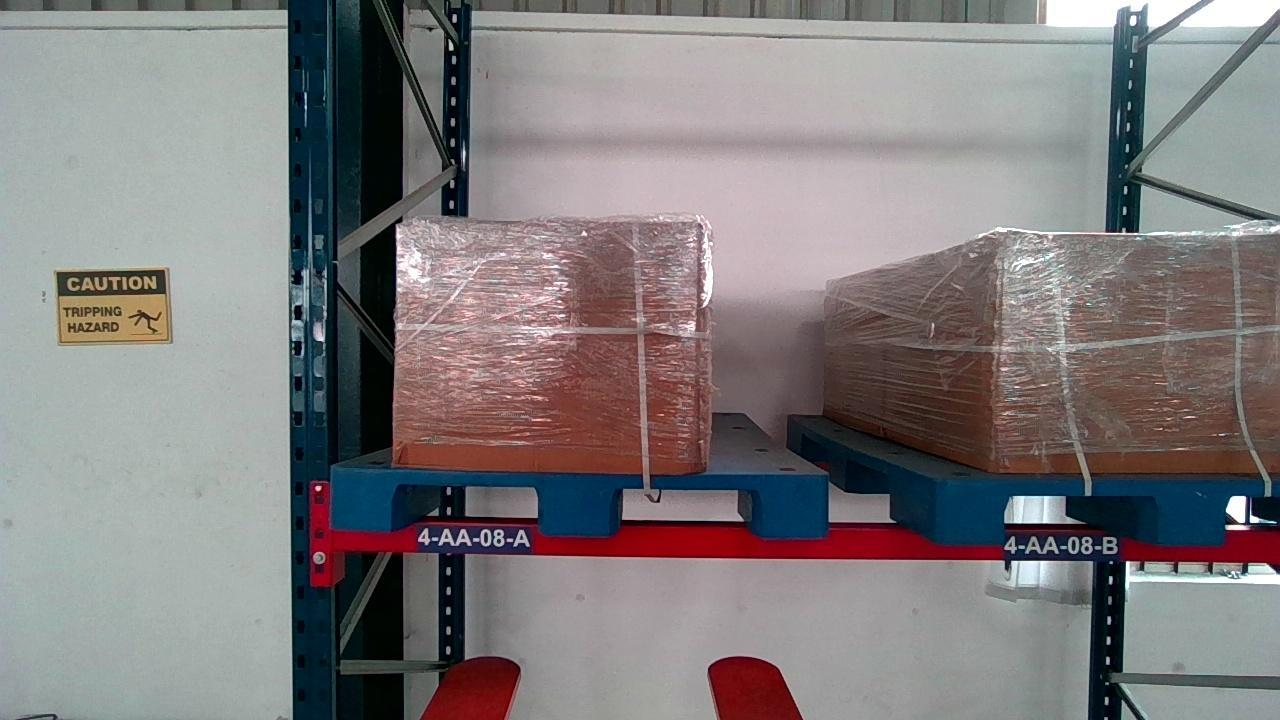h_rack: (324, 521, 1280, 559)
small_pallet: (325, 464, 825, 537), (958, 475, 1277, 541)
